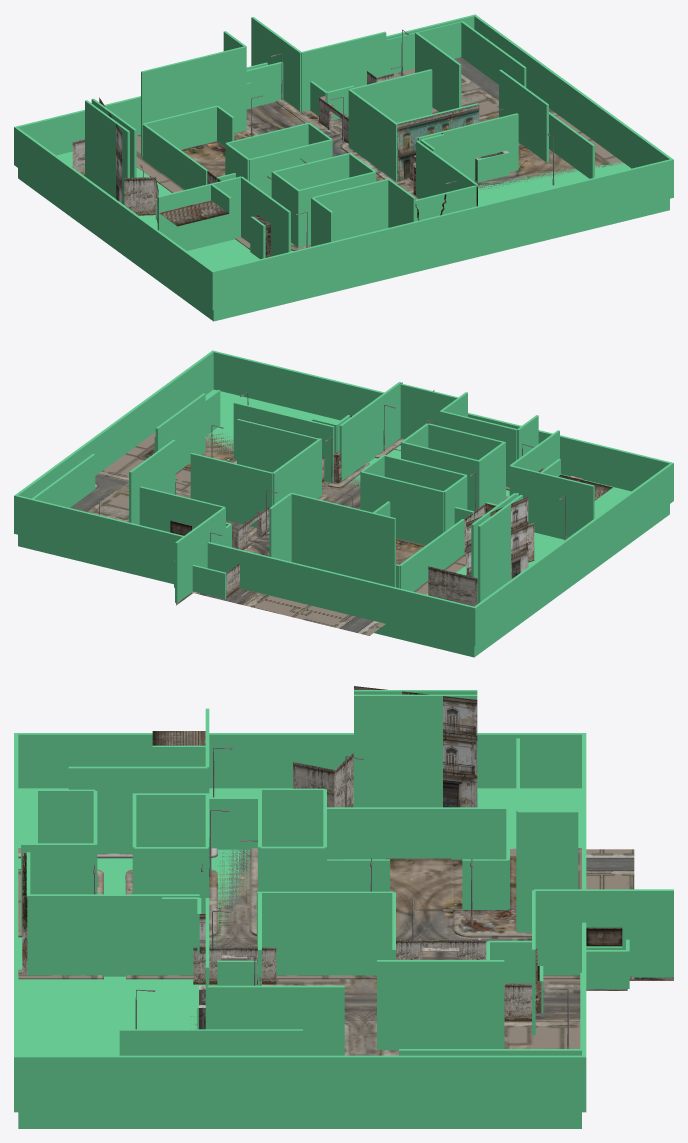
File: havana-street.glb
3 views of the same model, one above another, from view 1: azimuth 30°, elevation 25°; view 2: azimuth 150°, elevation 25°; view 3: azimuth 270°, elevation 25° (orthographic). The views are drawn at different scales.
Parts seen in each view (by area): view 1: COL_Boundary_South, Empty.028_18, COL_Ground, COL_Boundary_West, COL_Building_26, COL_Boundary_East, COL_Boundary_North, COL_Building_27, COL_Building_19, COL_Building_21, COL_Building_17, COL_Building_12 (+26 smaller); view 2: COL_Boundary_North, Empty.028_18, COL_Boundary_South, COL_Ground, COL_Boundary_West, COL_Building_26, COL_Boundary_East, COL_Building_19, COL_Building_25, COL_Building_24, COL_Building_11, COL_Building_23 (+22 smaller); view 3: Empty.028_18, COL_Boundary_East, COL_Ground, COL_Boundary_West, COL_Building_11, COL_Building_14, COL_Building_12, COL_Building_02, COL_Building_13, COL_Wall_04, COL_Building_15, COL_Building_03 (+19 smaller).
Part boxes in pixels (x1=…): COL_Boundary_South: x1=211, y1=159, x2=671, y2=310; Empty.028_18: x1=72, y1=57, x2=624, y2=257; COL_Ground: x1=18, y1=151, x2=669, y2=321; COL_Boundary_West: x1=15, y1=127, x2=214, y2=309; COL_Building_26: x1=141, y1=46, x2=246, y2=156; COL_Boundary_East: x1=473, y1=14, x2=673, y2=198; COL_Boundary_North: x1=14, y1=15, x2=475, y2=165; COL_Building_27: x1=301, y1=31, x2=386, y2=111; COL_Building_19: x1=157, y1=176, x2=241, y2=250; COL_Building_21: x1=418, y1=113, x2=518, y2=180; COL_Building_17: x1=312, y1=178, x2=389, y2=241; COL_Building_12: x1=348, y1=89, x2=397, y2=181; COL_Boundary_North: x1=16, y1=495, x2=476, y2=645; Empty.028_18: x1=70, y1=382, x2=612, y2=635; COL_Boundary_South: x1=213, y1=351, x2=673, y2=501; COL_Ground: x1=18, y1=389, x2=669, y2=657; COL_Boundary_West: x1=473, y1=463, x2=672, y2=645; COL_Building_26: x1=291, y1=493, x2=395, y2=587; COL_Boundary_East: x1=14, y1=350, x2=214, y2=534; COL_Building_19: x1=510, y1=465, x2=594, y2=539; COL_Building_25: x1=190, y1=453, x2=273, y2=527; COL_Building_24: x1=361, y1=471, x2=444, y2=545; COL_Building_11: x1=339, y1=382, x2=401, y2=481; COL_Building_23: x1=237, y1=419, x2=318, y2=472; Empty.028_18: x1=18, y1=686, x2=673, y2=1055; COL_Boundary_East: x1=14, y1=1055, x2=586, y2=1112; COL_Ground: x1=18, y1=788, x2=581, y2=1128; COL_Boundary_West: x1=14, y1=733, x2=585, y2=788; COL_Building_11: x1=27, y1=894, x2=199, y2=976; COL_Building_14: x1=377, y1=960, x2=504, y2=1050; COL_Building_12: x1=257, y1=891, x2=393, y2=975; COL_Building_02: x1=354, y1=694, x2=477, y2=807; COL_Building_13: x1=534, y1=889, x2=673, y2=977; COL_Wall_04: x1=327, y1=807, x2=508, y2=859; COL_Building_15: x1=207, y1=985, x2=344, y2=1055; COL_Building_03: x1=68, y1=766, x2=207, y2=853.
Size of the model in its own units: 53.33 by 10.81 by 45.84.
40 materials, 37 textured.
